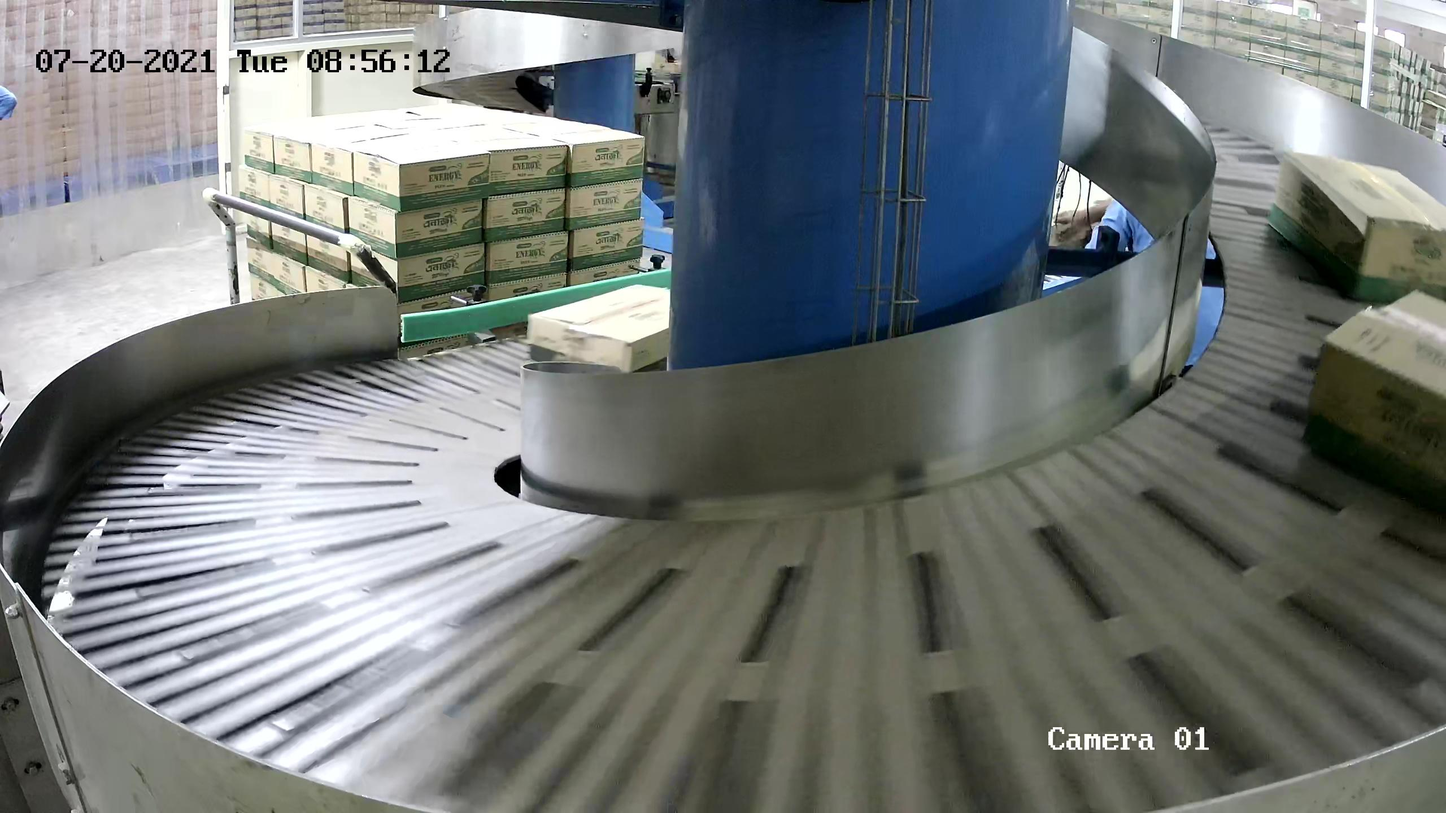Box: (1301, 287, 1446, 511), (1266, 148, 1446, 301), (526, 283, 670, 373)
